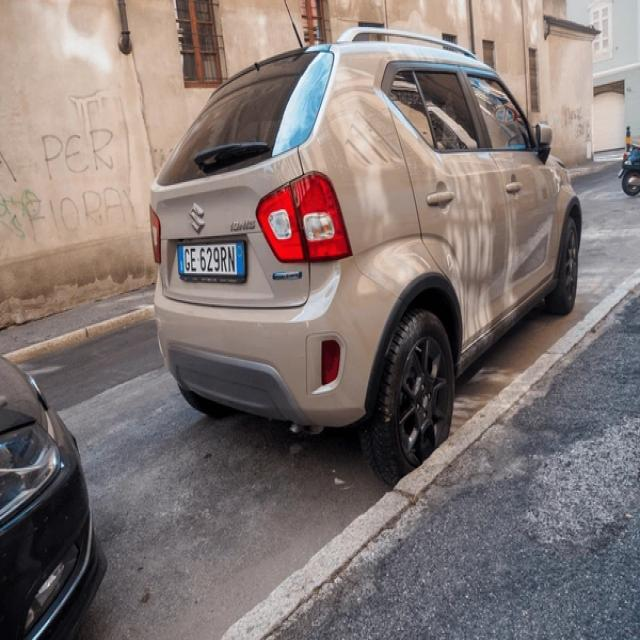seat: (185, 199, 208, 238)
